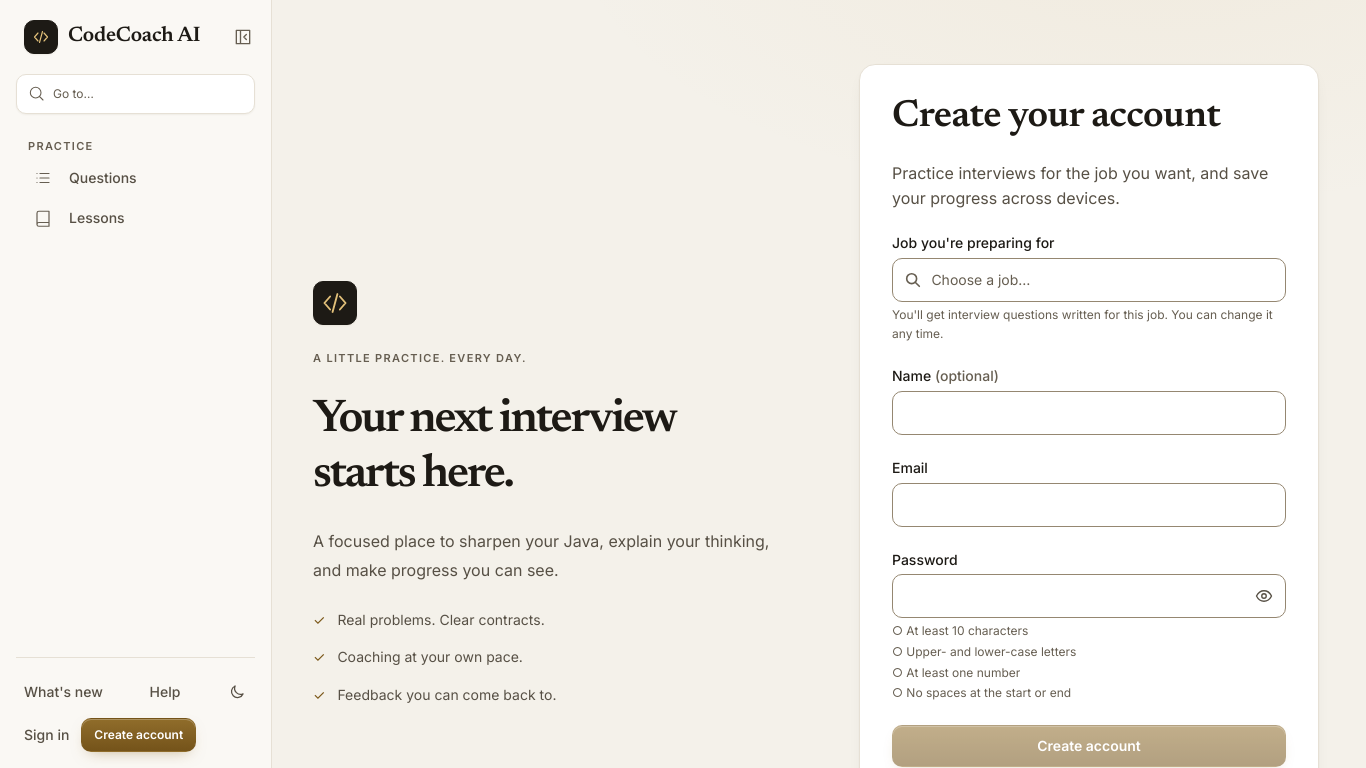
Test: Authentication › maps backend validation errors onto register fields
In the field labelled "Email": (1089, 505) [892,483,1286,527], type "a@example.com"
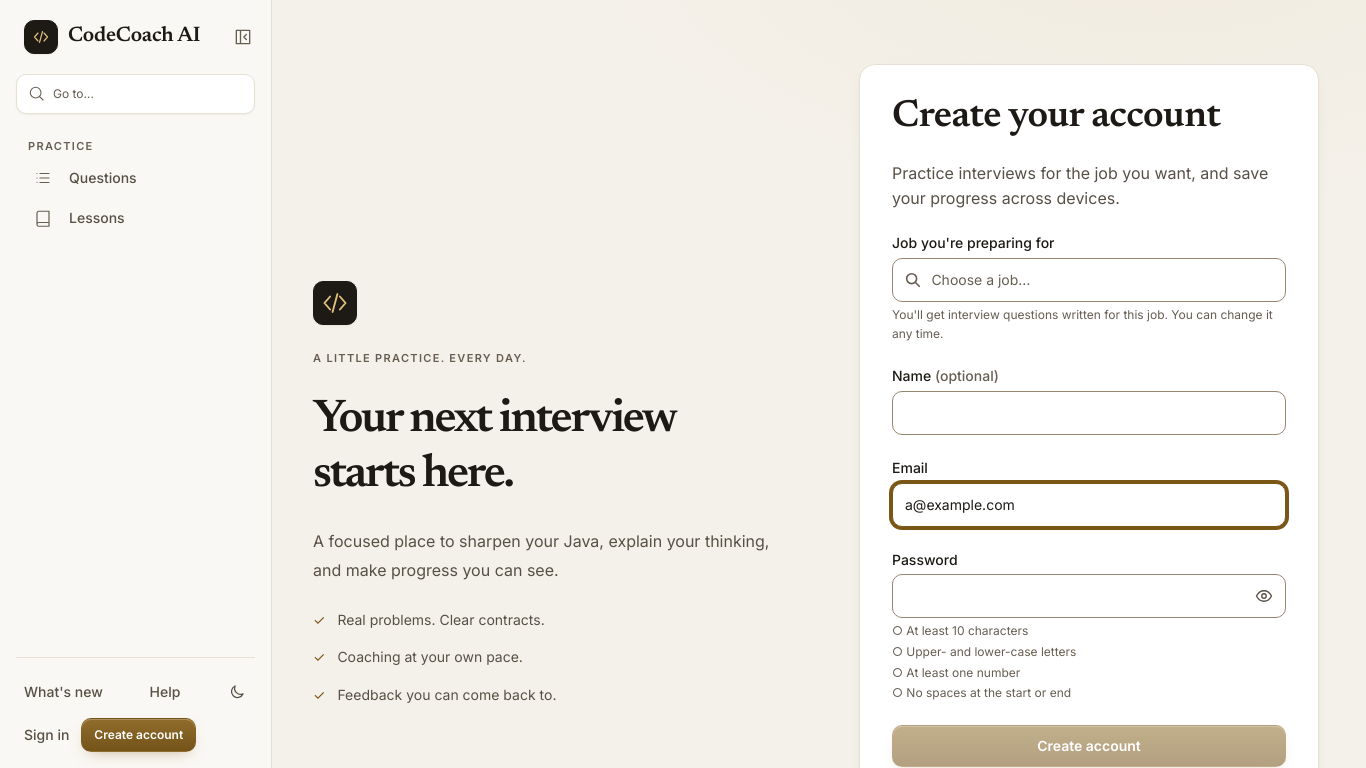
In the password field labelled "Password": (1089, 596) [892,574,1286,618], type "alllowercase"
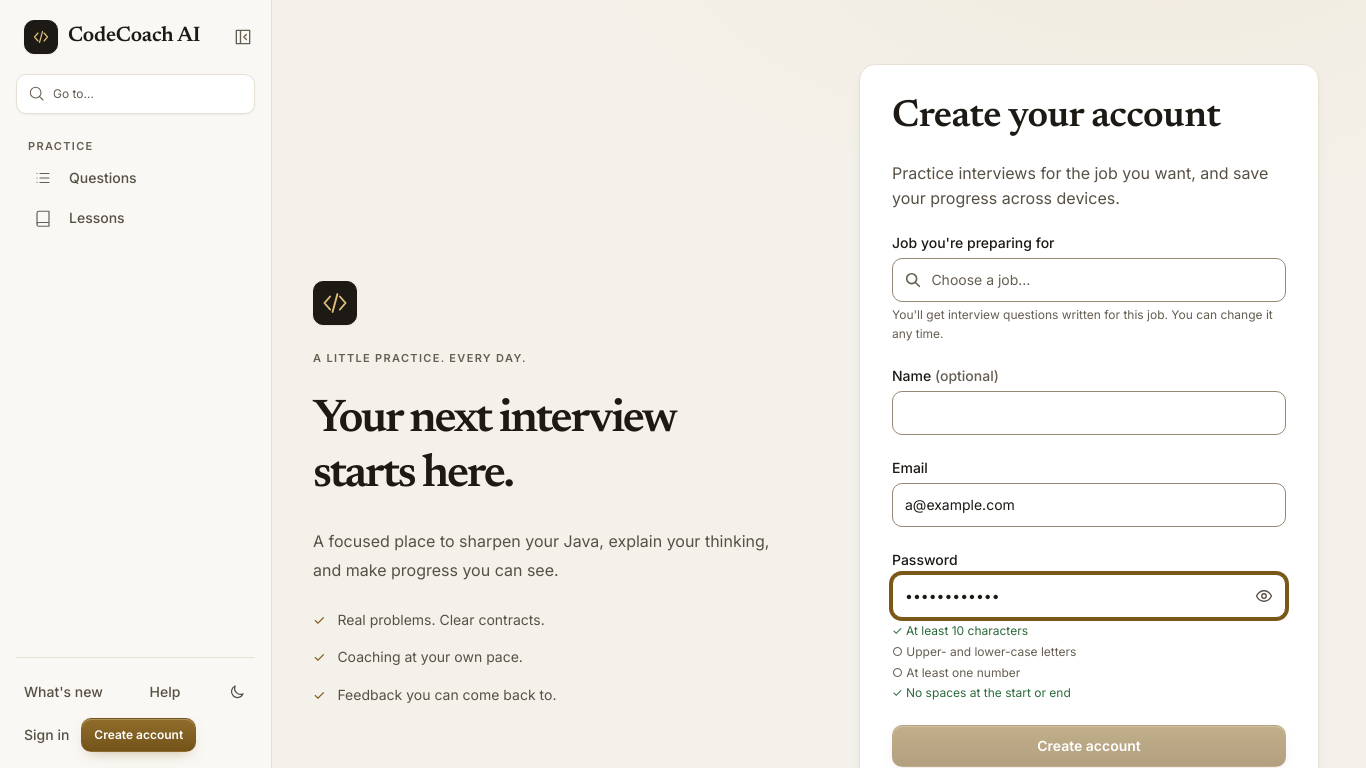
In the dropdown labelled "Job you're preparing for": (1089, 280) [892,258,1286,302], type "registered nurse"
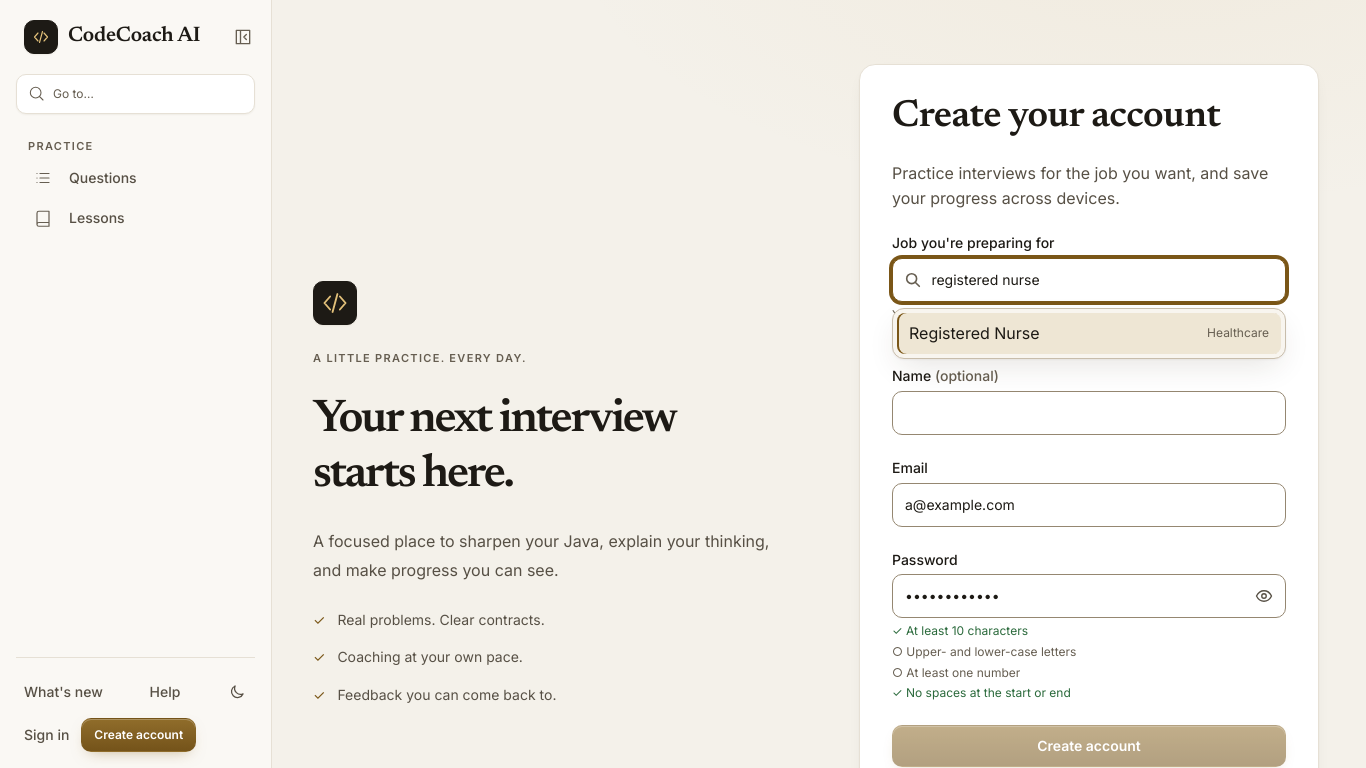
Click the option "Registered Nurse Healthcare": (974, 333) [897,313,1281,354]
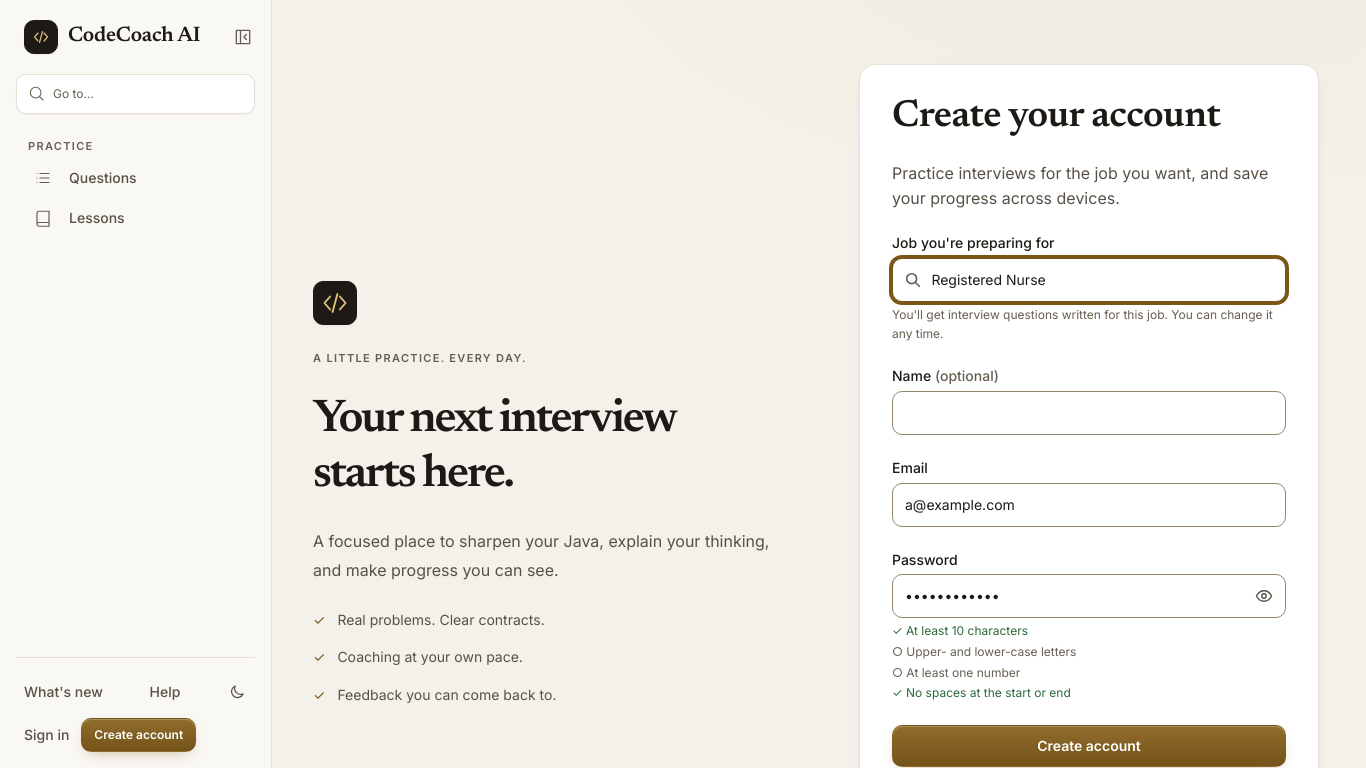
Click the button "Create account": (1089, 746) [892,725,1286,767]
(page scrolled)
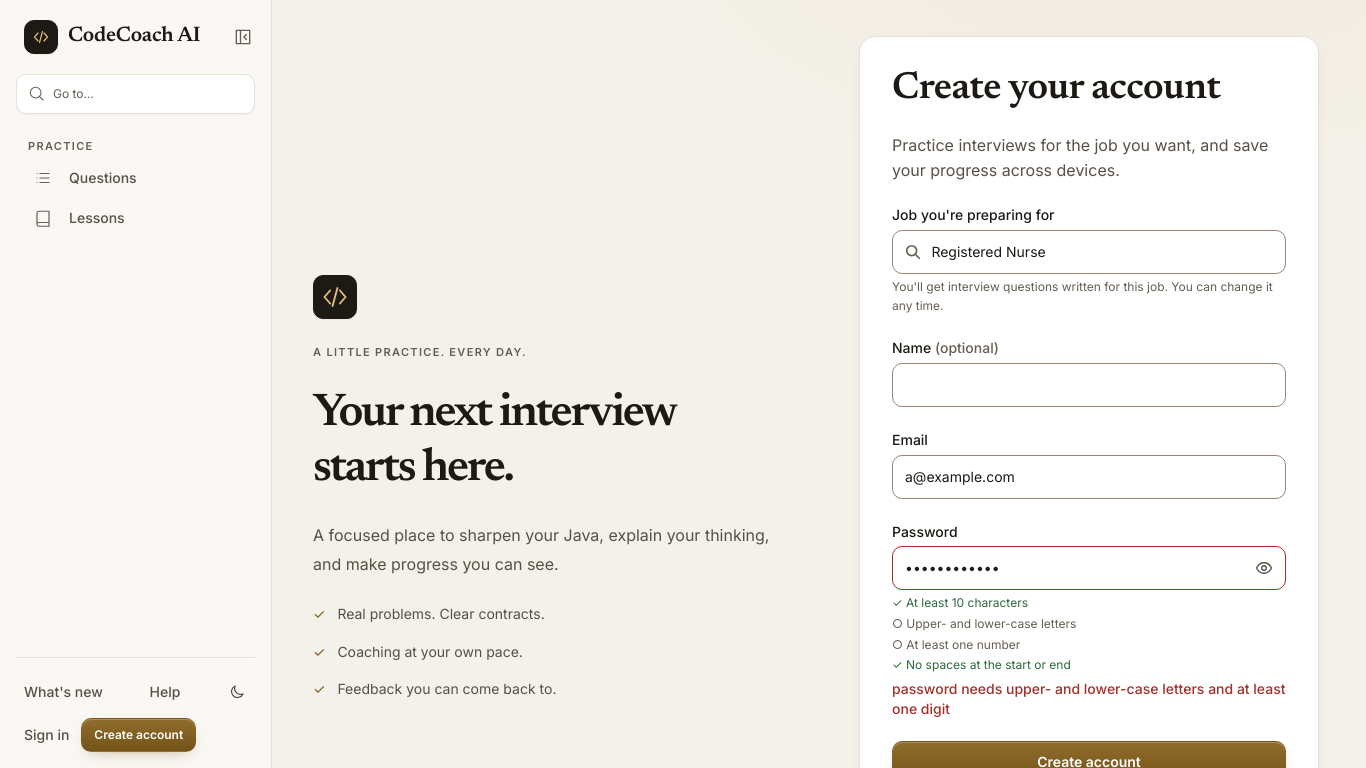
Expected: the text "password needs upper- and lower-case letters and at least one digit" is shown, [892,679,1286,719]
